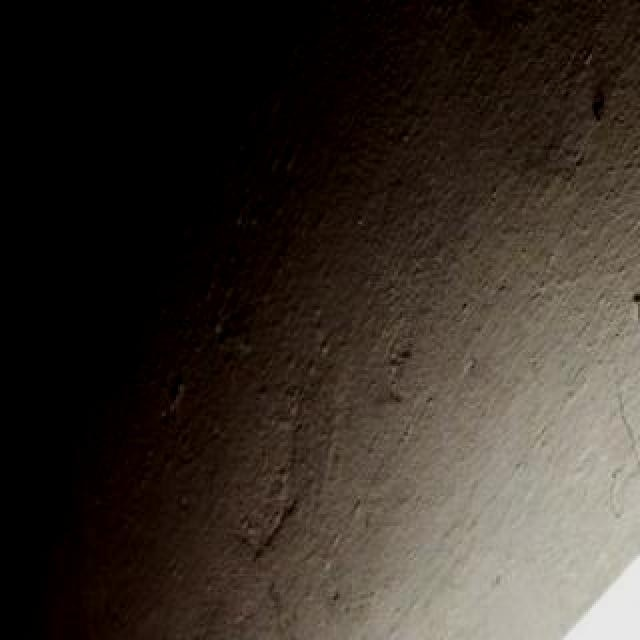fluorescent tube: (0, 358, 640, 640)
